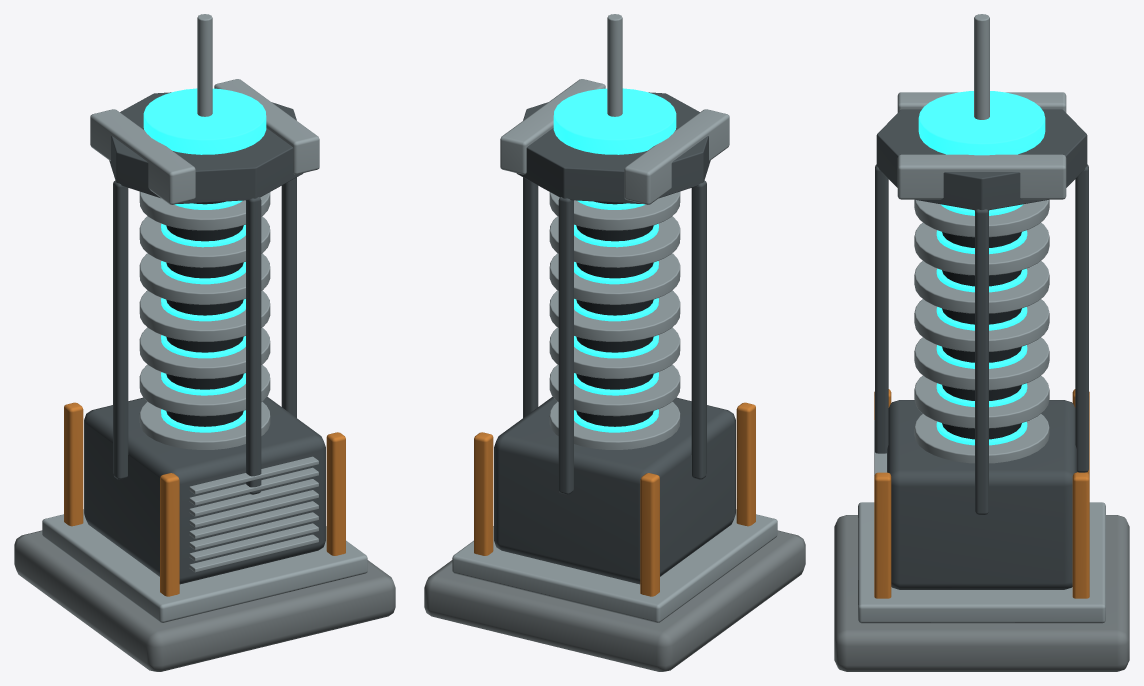
The model's file is signal-pylon.glb.
3 renders of one model, left to right at view 1: azimuth 30°, elevation 25°; view 2: azimuth 150°, elevation 25°; view 3: azimuth 270°, elevation 25°, orthographic. The views are drawn at different scales.
Visible parts, largest first — view 1: signal-pylon; view 2: signal-pylon; view 3: signal-pylon.
Boxes of the visible parts, bbox=[...] form: signal-pylon: bbox=[14, 14, 395, 671]; signal-pylon: bbox=[424, 14, 805, 671]; signal-pylon: bbox=[834, 14, 1129, 671].
Bounding box in the file's own units: 2.8 × 6.25 × 2.8.
